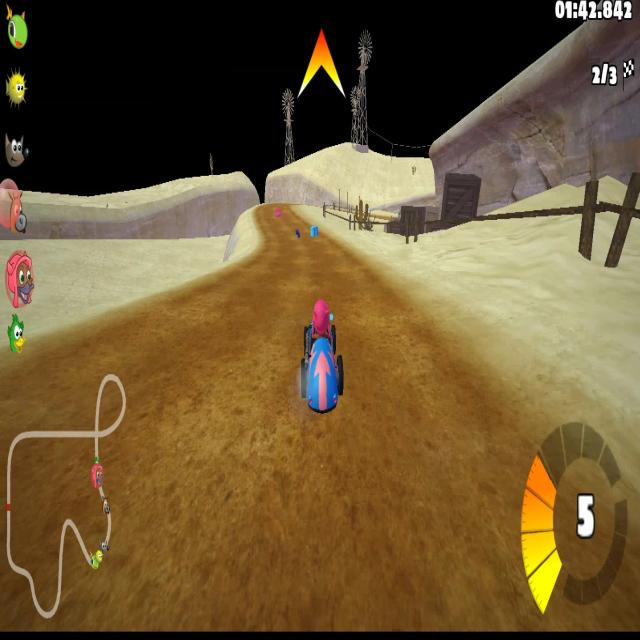player_kart: (297, 299, 349, 422)
